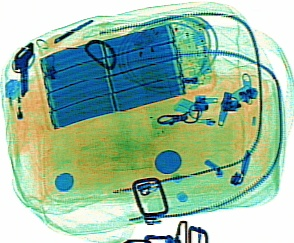lighter: (2, 76, 28, 149)
powerbank: (36, 13, 215, 130)
